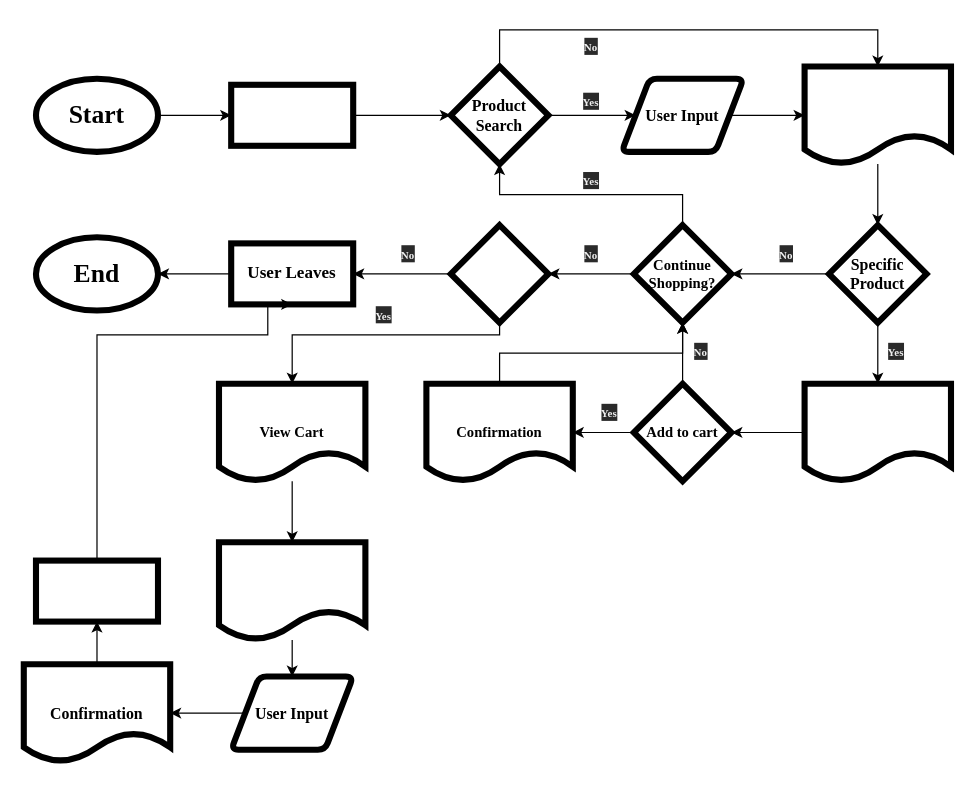
Image size: 975x786. Some labels were removed from this diagram. Here are the shapes that lost their labels. From the top down, the centre of each, then its label:
At point (292, 114): "User Enters".
At point (877, 115): "Product List".
At point (499, 273): "Checkout".
At point (877, 432): "Product Webpage".
At point (96, 590): "Send Email".
At point (291, 590): "View Payment".
